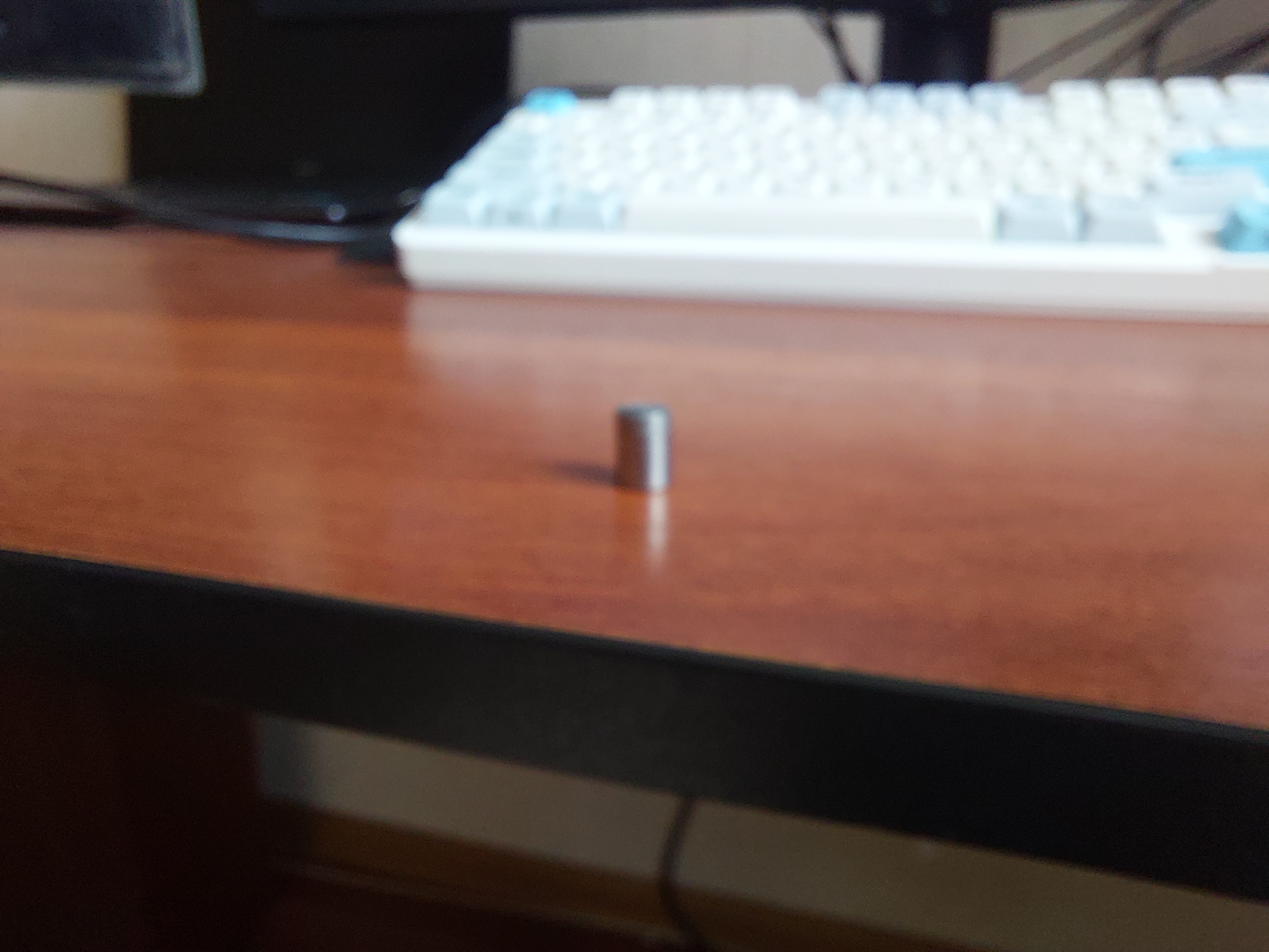tablet: (616, 407, 673, 492)
